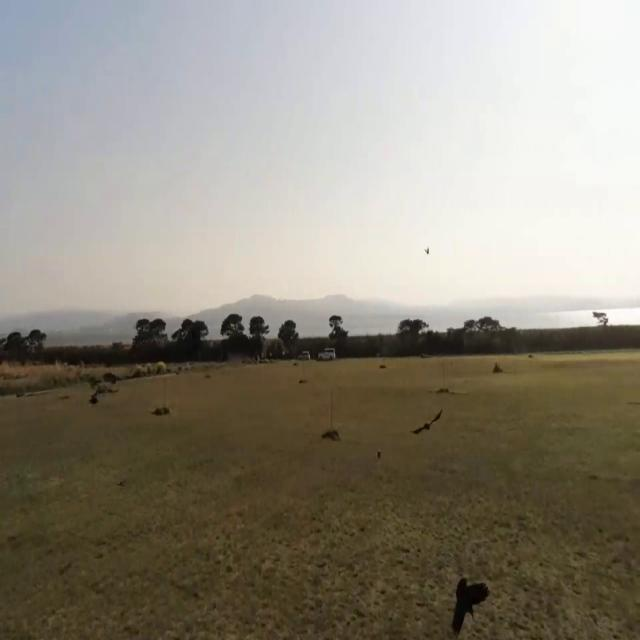bird: (412, 404, 440, 442), (425, 242, 430, 262)
